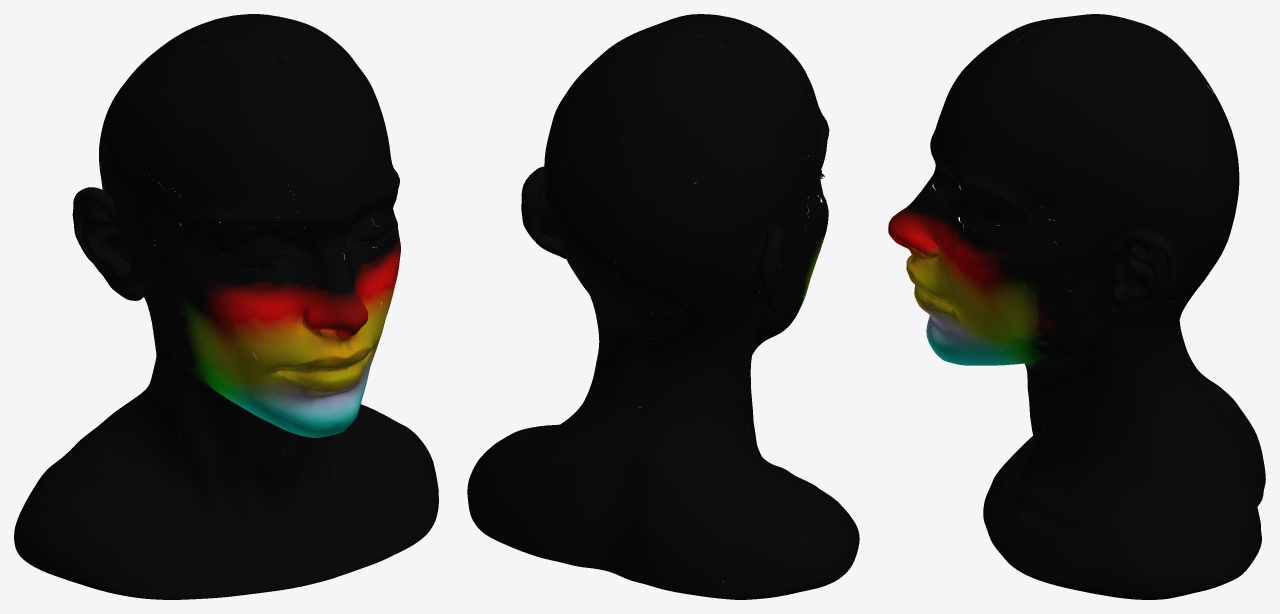
Rendered from ozea-face-sculpt.glb.
The picture shows the model from 3 angles, left to right: view 1: azimuth 30°, elevation 25°; view 2: azimuth 150°, elevation 25°; view 3: azimuth 270°, elevation 25°; orthographic projection. The views are drawn at different scales.
Visible parts, largest first — view 1: face.001; view 2: face.001; view 3: face.001.
Part boxes in pixels (bbox=[...]): face.001: bbox=[14, 14, 438, 599]; face.001: bbox=[467, 14, 859, 599]; face.001: bbox=[888, 14, 1265, 599].
Bounding box in the file's own units: 24.53 × 30.51 × 21.46.
1 material, 1 textured.
